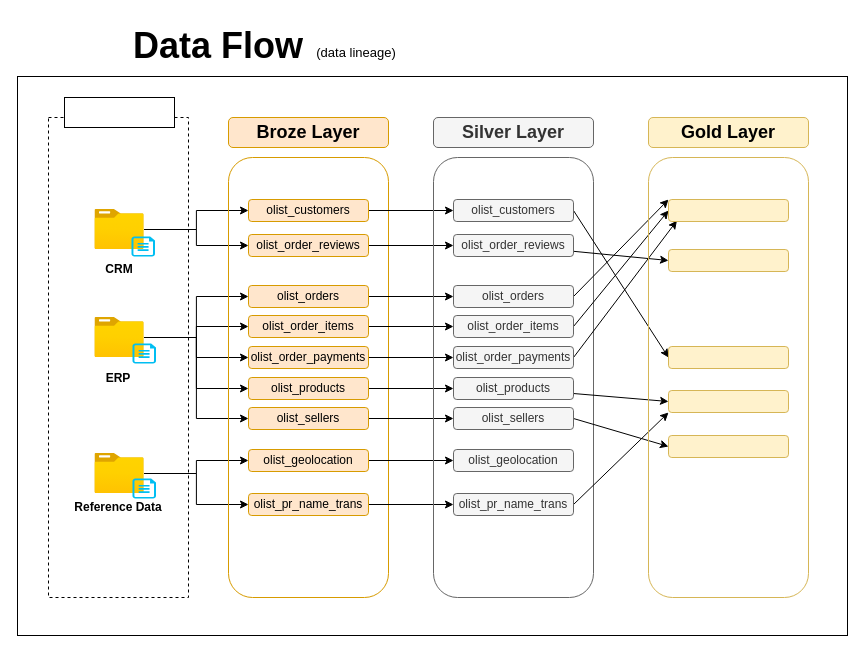
Some shapes in this 865 by 653 pixel diagram are drawn without their labels. Here are the shapes that lost their labels. From the top down, the centre of each, then its label:
(119,112): Source
(728,210): fact_orders
(728,260): fact_reviews
(728,357): dim_customers
(728,401): dim_products
(728,446): dim_sellers
